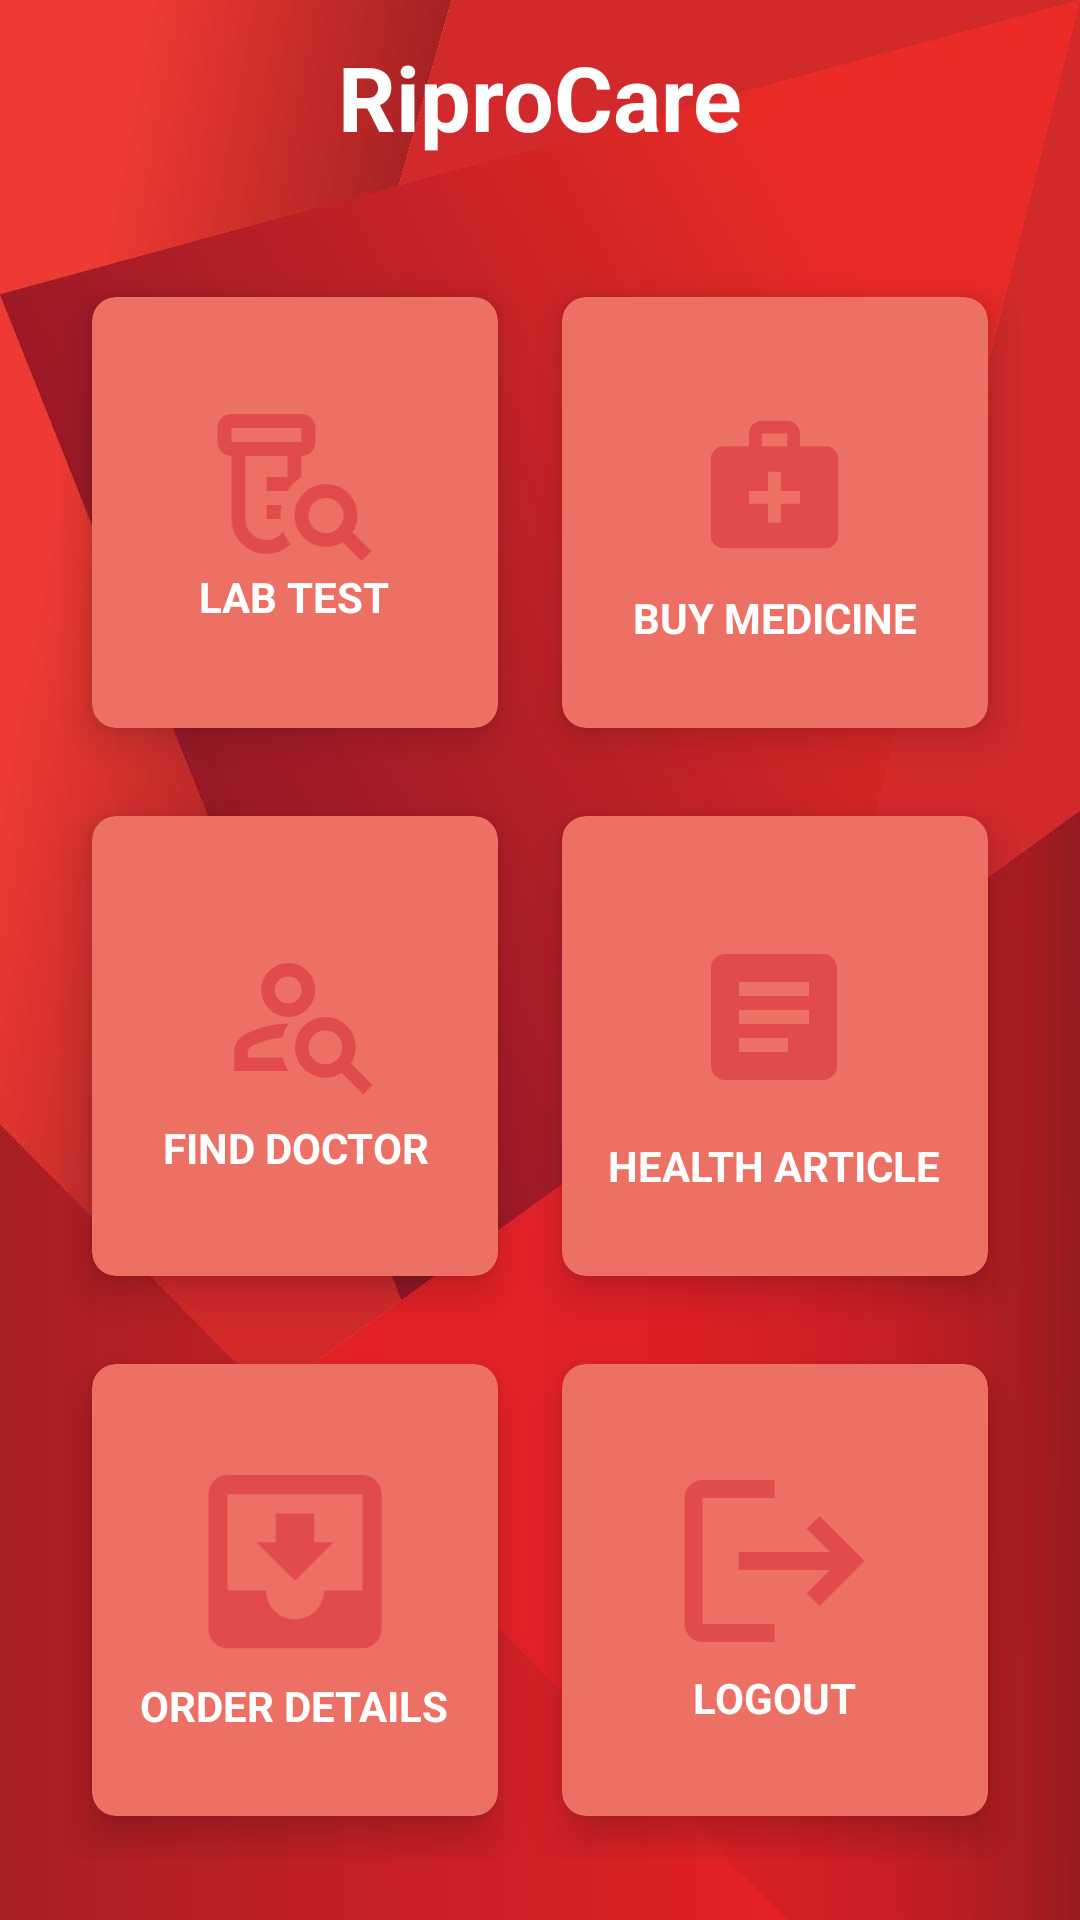

Icons on this 1080×1920 Android screen, each with the point to tap as [x,y]:
medical services: [774,484]
move to inbox: [295,1561]
person search: [303,1028]
